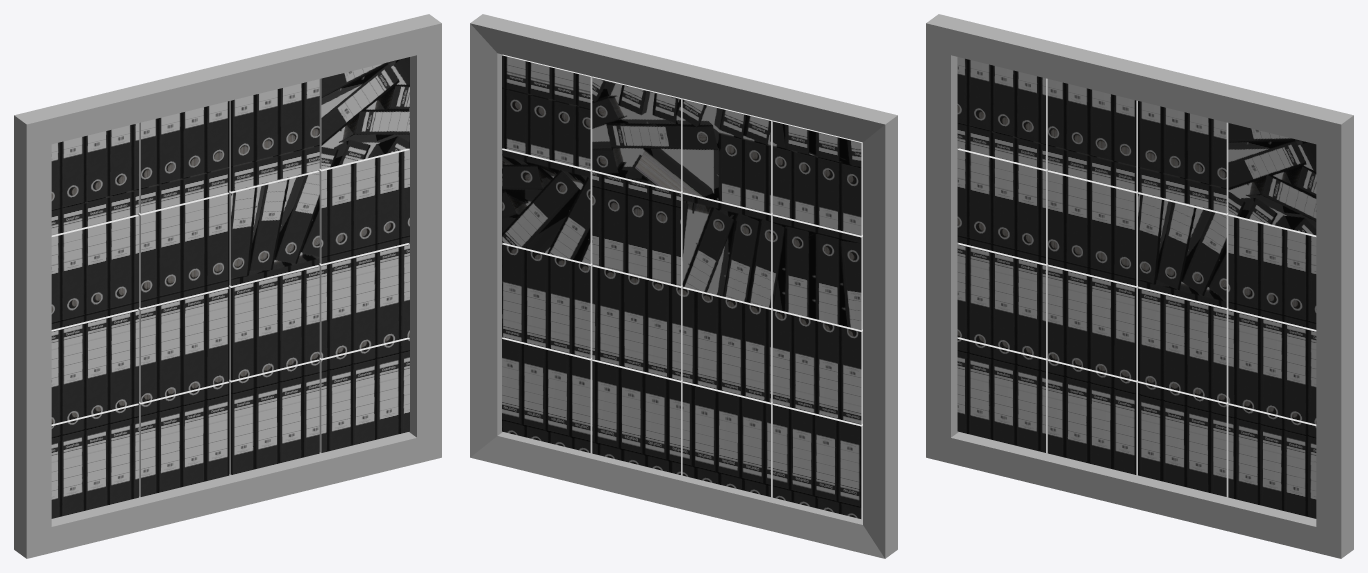
The model's file is puzzle4_highlight2.fbx.
3 renders of one model, left to right at view 1: azimuth 30°, elevation 25°; view 2: azimuth 150°, elevation 25°; view 3: azimuth 330°, elevation 25°, orthographic.
Parts seen in each view (by area): view 1: sic, eleven, twelve, sixteen, fourteen, five, ten, fifteen, seven, nine, thirteen, eight (+26 smaller); view 2: sic, eleven, twelve, sixteen, five, fourteen, ten, thirteen, fifteen, seven, eight, nine (+26 smaller); view 3: seven, nine, ten, thirteen, eight, fourteen, fifteen, eleven, sic, twelve, sixteen, five (+26 smaller).
Part boxes in pixels (<box>): sic: <box>228,170,319,286</box>; eleven: <box>228,265,319,380</box>; twelve: <box>318,243,409,358</box>; sixteen: <box>318,337,409,452</box>; fourteen: <box>138,381,229,496</box>; five: <box>318,148,409,263</box>; ten: <box>138,287,229,402</box>; fifteen: <box>228,359,319,474</box>; seven: <box>138,192,229,307</box>; nine: <box>51,309,139,424</box>; thirteen: <box>51,403,139,518</box>; eight: <box>51,214,139,329</box>; sic: <box>592,170,683,286</box>; eleven: <box>592,265,683,380</box>; twelve: <box>502,243,593,358</box>; sixteen: <box>502,337,593,452</box>; five: <box>502,148,593,263</box>; fourteen: <box>682,381,773,496</box>; ten: <box>682,287,773,402</box>; thirteen: <box>772,403,862,519</box>; fifteen: <box>592,359,683,474</box>; seven: <box>682,192,773,307</box>; eight: <box>772,214,862,330</box>; nine: <box>772,309,862,424</box>; seven: <box>1047,170,1139,285</box>; nine: <box>957,243,1048,358</box>; ten: <box>1047,265,1139,380</box>; thirteen: <box>957,337,1048,452</box>; eight: <box>957,148,1049,263</box>; fourteen: <box>1047,359,1139,474</box>; fifteen: <box>1138,381,1229,496</box>; eleven: <box>1138,287,1229,402</box>; sic: <box>1138,192,1229,307</box>; twelve: <box>1228,309,1316,424</box>; sixteen: <box>1228,403,1316,518</box>; five: <box>1228,214,1316,329</box>.
Size of the model in its own units: 151 by 151 by 8.
17 materials, 16 textured.
